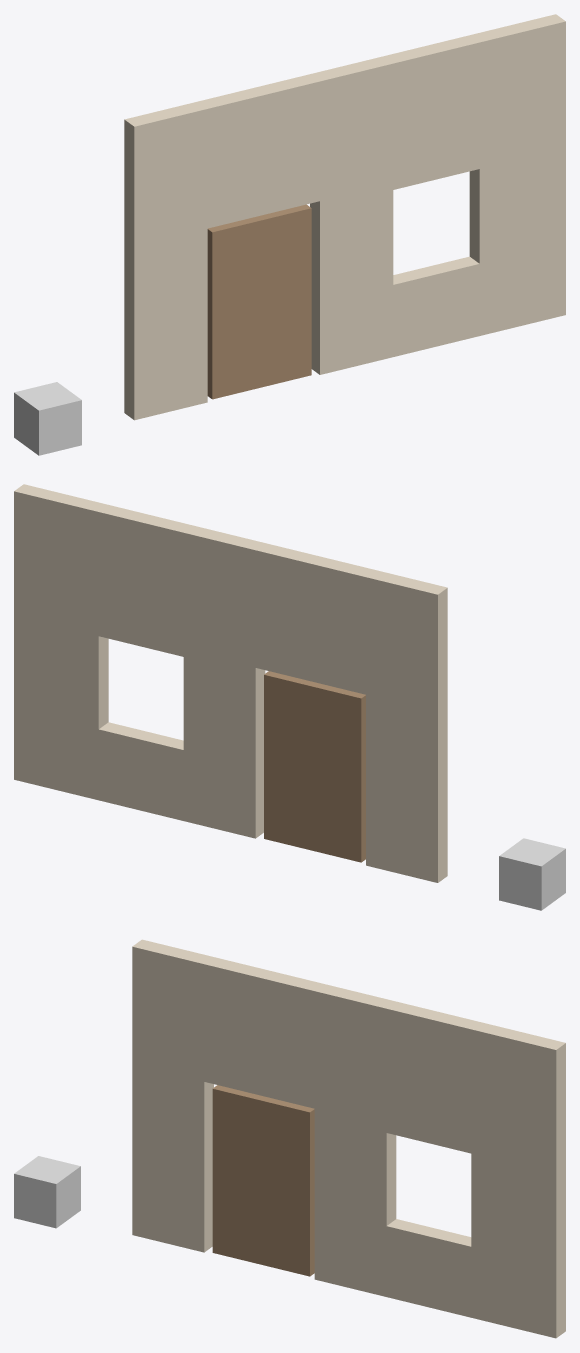
File: scale_check.fbx
3 views of the same model, one above another, from view 1: azimuth 30°, elevation 25°; view 2: azimuth 150°, elevation 25°; view 3: azimuth 330°, elevation 25° (orthographic).
Parts seen in each view (by area): view 1: TestWall, Door_Std, ScaleCheck_2stud; view 2: TestWall, Door_Std, ScaleCheck_2stud; view 3: TestWall, Door_Std, ScaleCheck_2stud.
Part boxes in pixels (x1,y1,x2,y2): TestWall: (124, 14, 565, 420); Door_Std: (207, 204, 311, 399); ScaleCheck_2stud: (14, 382, 81, 455); TestWall: (14, 484, 447, 882); Door_Std: (264, 671, 365, 862); ScaleCheck_2stud: (499, 838, 565, 910); TestWall: (132, 939, 565, 1338); Door_Std: (212, 1085, 314, 1276); ScaleCheck_2stud: (14, 1156, 80, 1228).
Size of the model in its own units: 25 by 13 by 2.
